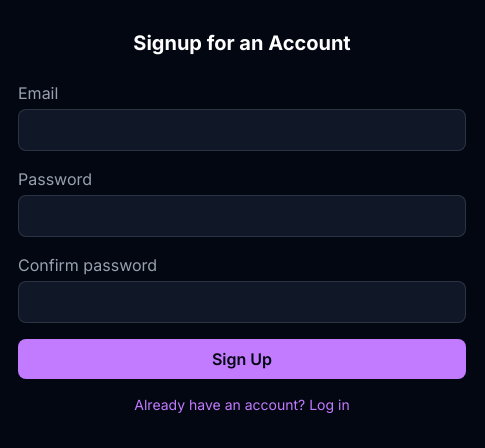
Test: SignupPage › shows error when passwords do not match
Type "test@example.com" into the field labelled "Email" at (242, 130), box left=18, top=109, right=466, bottom=151
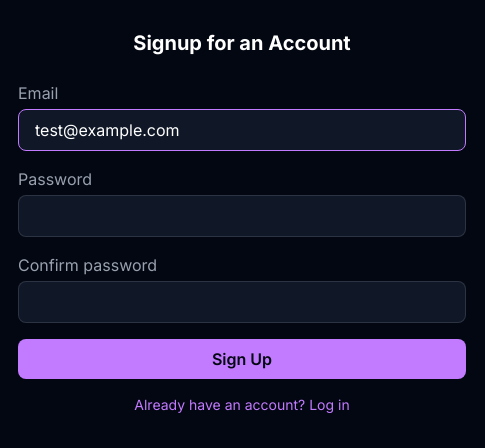
Type "password123" into the password field labelled "Password" at (242, 216), box left=18, top=195, right=466, bottom=237
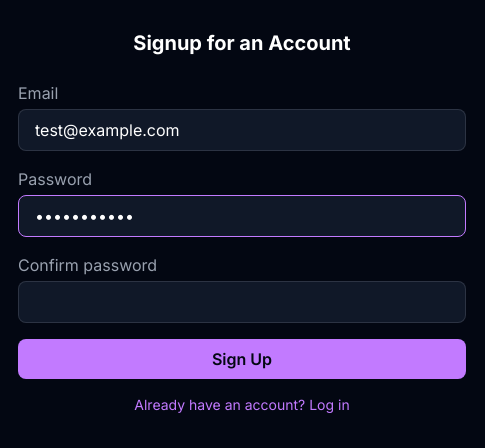
Type "different456" into the password field labelled "Confirm password" at (242, 302), box left=18, top=281, right=466, bottom=323
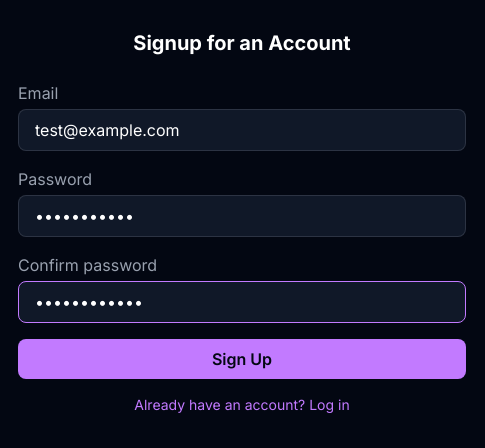
Click the button "Sign Up" at (242, 359), box left=18, top=339, right=466, bottom=379
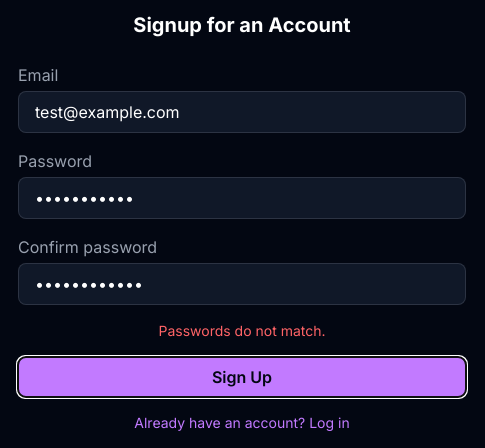
Result: the text "Passwords do not match." is shown at left=158, top=322, right=326, bottom=339
